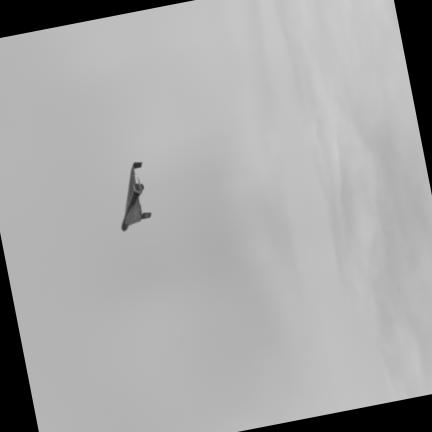Shahed: (120, 160, 152, 233)
